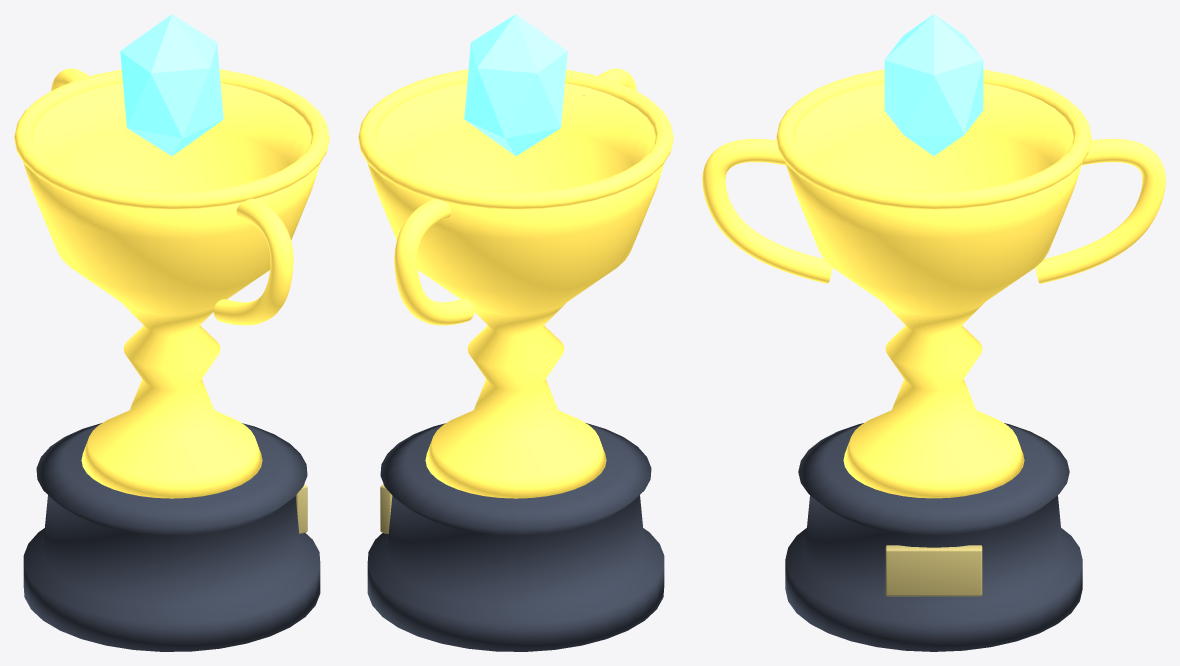
The model's file is trophy_chalice.glb.
3 views of the same model, side by side, from view 1: azimuth 30°, elevation 25°; view 2: azimuth 150°, elevation 25°; view 3: azimuth 270°, elevation 25° (orthographic).
Parts seen in each view (by area): view 1: GoldenChalice, MarblePedestal, CrownGem, CupRim, Handle_-1, GoldPlaque; view 2: GoldenChalice, MarblePedestal, CrownGem, CupRim, Handle_1, GoldPlaque; view 3: GoldenChalice, MarblePedestal, CrownGem, CupRim, Handle_1, Handle_-1, GoldPlaque.
Boxes of the visible parts, <box> form: GoldenChalice: <box>23,75,320,498</box>; MarblePedestal: <box>23,423,320,651</box>; CrownGem: <box>120,14,223,155</box>; CupRim: <box>14,69,329,209</box>; Handle_-1: <box>213,198,293,325</box>; GoldPlaque: <box>295,484,307,533</box>; GoldenChalice: <box>367,75,664,498</box>; MarblePedestal: <box>367,423,664,651</box>; CrownGem: <box>464,14,567,155</box>; CupRim: <box>358,69,673,209</box>; Handle_1: <box>394,198,474,325</box>; GoldPlaque: <box>380,484,392,533</box>; GoldenChalice: <box>785,75,1082,498</box>; MarblePedestal: <box>785,423,1082,651</box>; CrownGem: <box>884,14,983,155</box>; CupRim: <box>776,69,1091,209</box>; Handle_1: <box>1035,139,1165,283</box>; Handle_-1: <box>702,139,832,283</box>; GoldPlaque: <box>885,545,982,596</box>.
Bounding box in the file's own units: 0.976 × 1.96 × 1.43.
